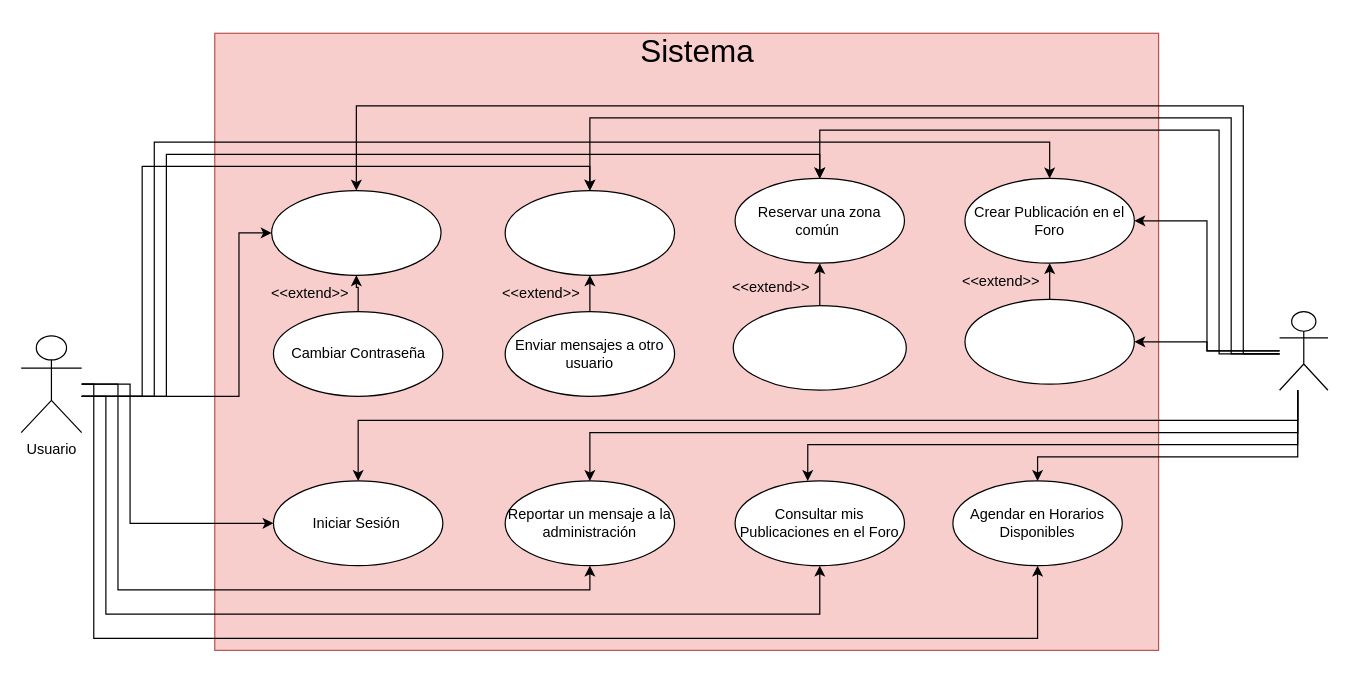
The diagram is 1370 pixels wide and 685 high, and some of its shapes have lost their labels. The shapes that lost their labels are listed below. From the top down, each one's box as (x1, y1, x2, y2) in pixels, then its label:
(270, 189, 441, 275): Editar Información Personal
(504, 189, 675, 275): Ver los mensajes en la bandeja de mensajes
(732, 304, 906, 390): Cancelar una Reservación
(964, 298, 1134, 384): Aprobar o Rechazar Publicación
(1278, 310, 1328, 390): Administrador
